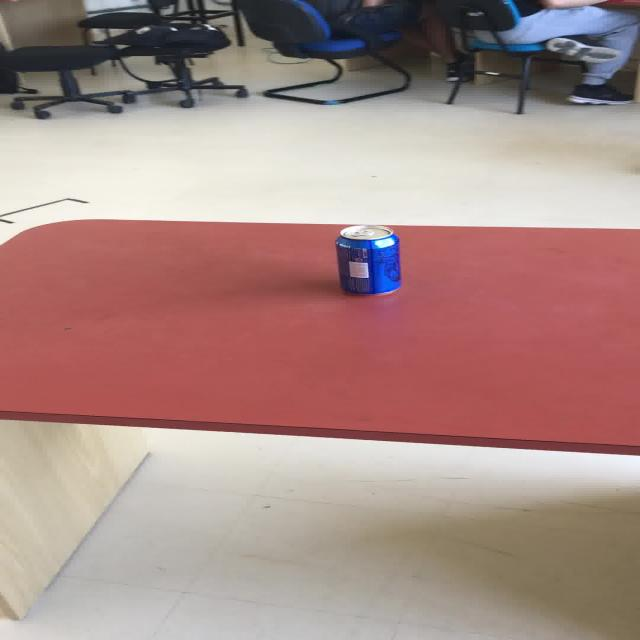tonic: (333, 224, 401, 295)
